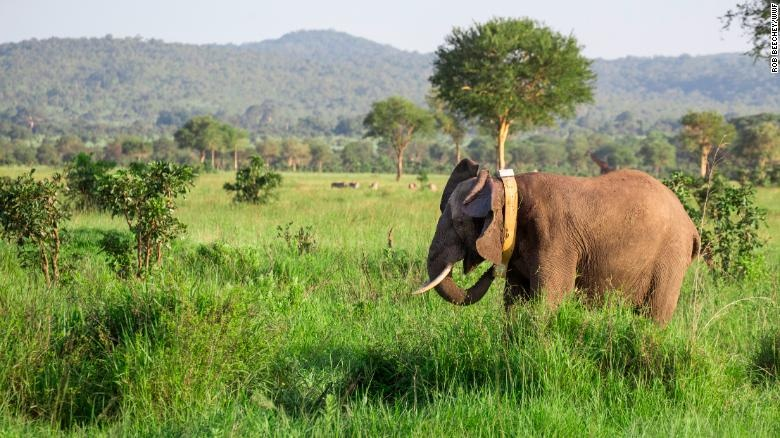elephant: (558, 241, 780, 412)
